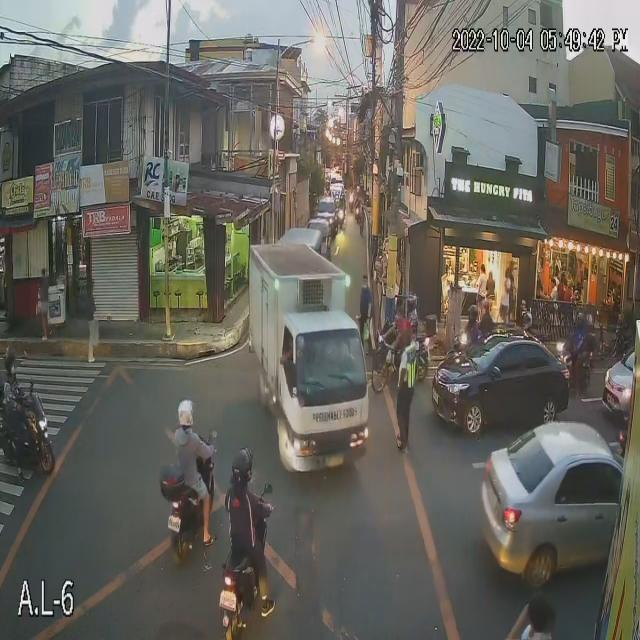helmet: (227, 444, 263, 483), (173, 398, 199, 433), (2, 347, 22, 380), (462, 303, 482, 325), (567, 308, 588, 328), (403, 295, 422, 317), (479, 296, 496, 316), (521, 309, 535, 327)
motorcycle: (217, 512, 284, 635), (157, 441, 218, 559), (0, 387, 58, 481), (374, 323, 441, 384), (545, 344, 601, 398)
rider: (223, 433, 276, 582), (172, 398, 216, 483), (0, 340, 29, 416), (402, 293, 426, 342), (568, 308, 593, 347), (518, 301, 536, 340), (464, 301, 480, 343), (480, 293, 494, 328)
